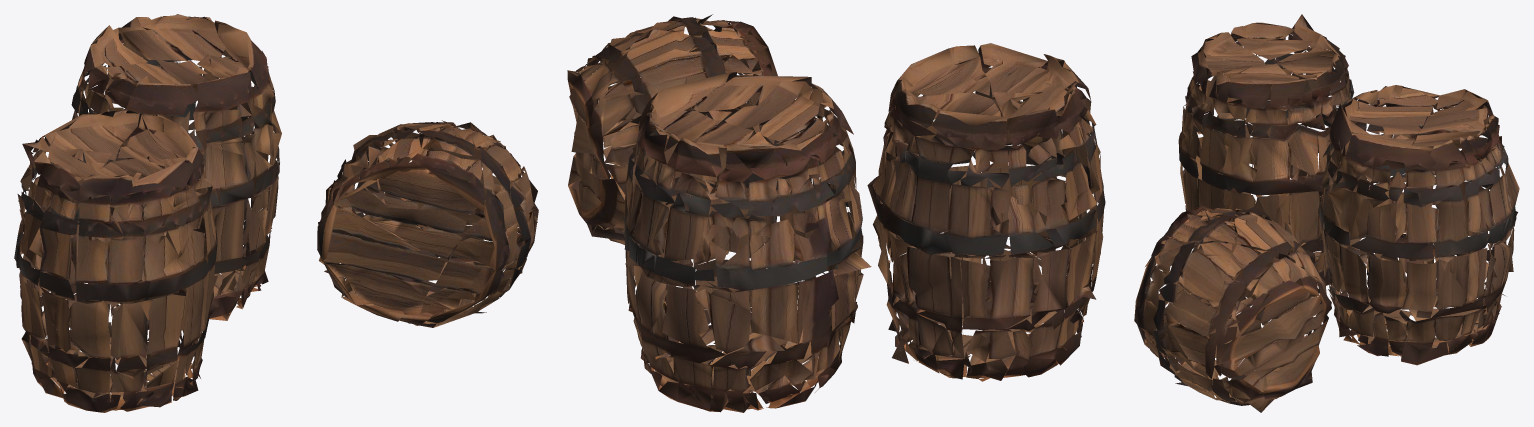
The model's file is barrel-group-interior-lod.glb.
3 views of the same model, side by side, from view 1: azimuth 30°, elevation 25°; view 2: azimuth 150°, elevation 25°; view 3: azimuth 270°, elevation 25° (orthographic). The views are drawn at different scales.
Visible parts, largest first — view 1: Mesh_0; view 2: Mesh_0; view 3: Mesh_0.
Part boxes in pixels (left/top/right/bottom): Mesh_0: left=14, top=14, right=538, bottom=412; Mesh_0: left=567, top=14, right=1105, bottom=412; Mesh_0: left=1134, top=14, right=1519, bottom=412.
Size of the model in its own units: 1.92 by 0.9327 by 1.45.
Materials: 1 (1 with a texture image).
